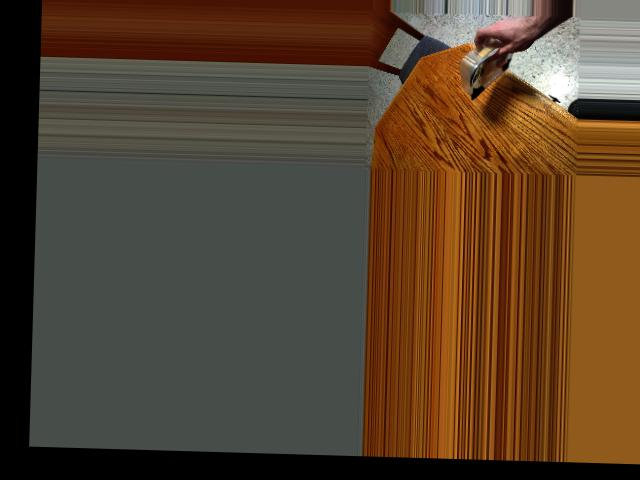cheese: (446, 34, 533, 97)
